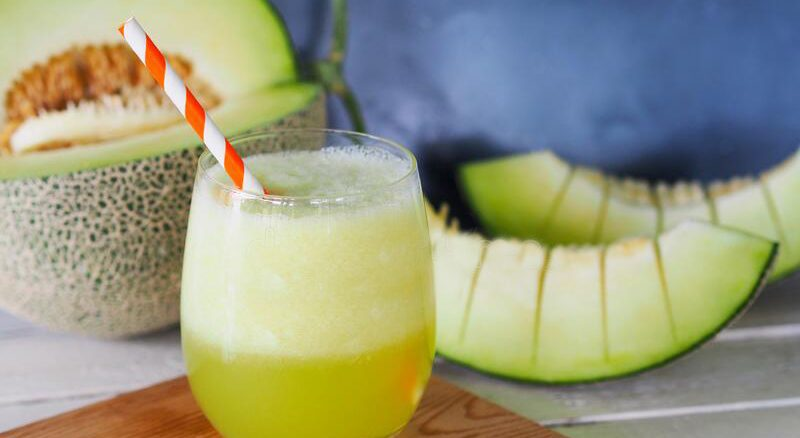Melon: (392, 226, 767, 390), (444, 144, 800, 285)
